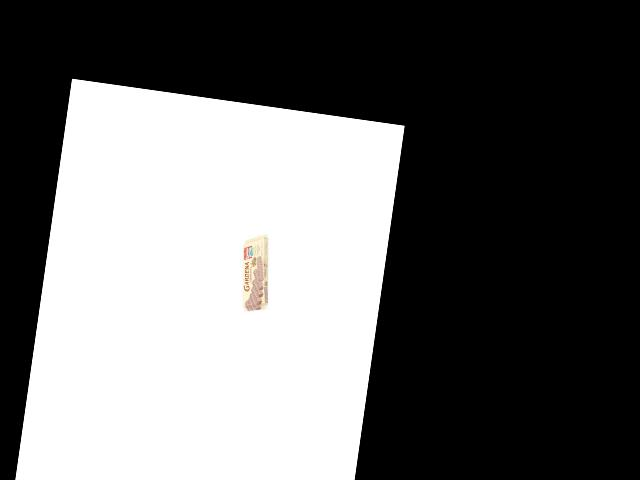chocolate: (232, 228, 274, 317)
